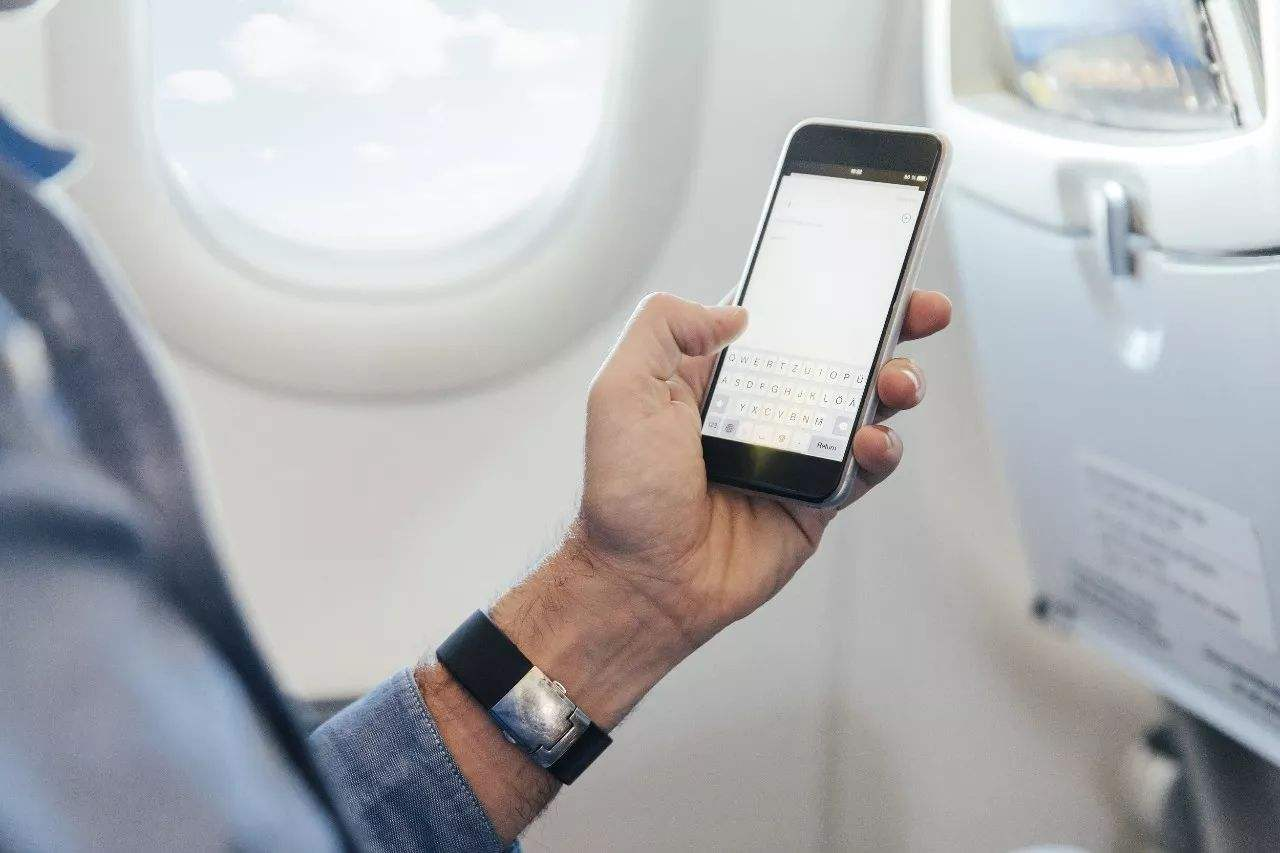reading: (564, 111, 960, 650)
